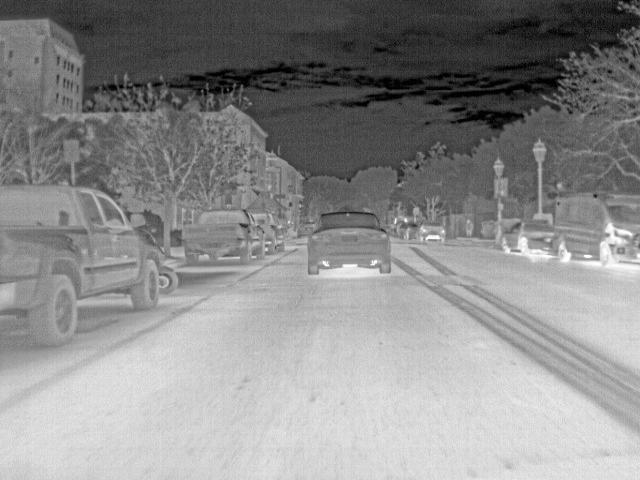car: (1, 184, 160, 345), (552, 190, 640, 266), (307, 210, 393, 275), (182, 207, 266, 264), (501, 220, 554, 255), (265, 213, 287, 254), (419, 221, 446, 242), (298, 220, 316, 236), (404, 220, 419, 239), (393, 221, 407, 238)
person: (130, 212, 149, 230), (466, 218, 475, 239)
